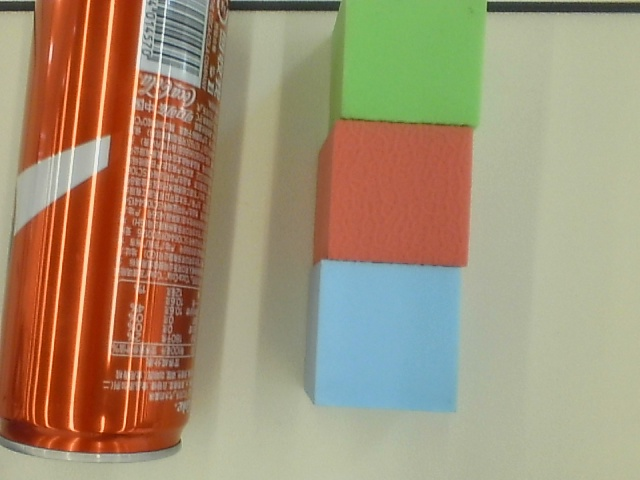bluecube: (301, 260, 468, 408)
cola: (1, 1, 234, 467)
greencube: (332, 1, 494, 129)
redcube: (314, 121, 475, 266)
